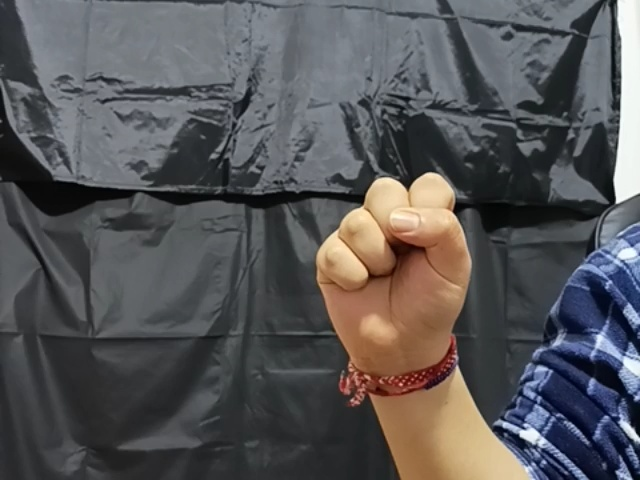S: (315, 169, 471, 358)
